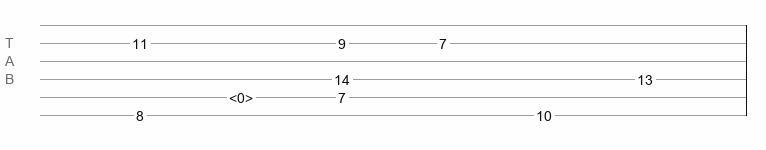10: (536, 108, 552, 118)
11: (132, 36, 148, 46)
13: (637, 72, 653, 82)
14: (334, 72, 350, 82)
7: (338, 90, 346, 100), (439, 36, 447, 46)
8: (136, 108, 144, 118)
9: (338, 36, 346, 46)
harmonic: (229, 90, 253, 100)
